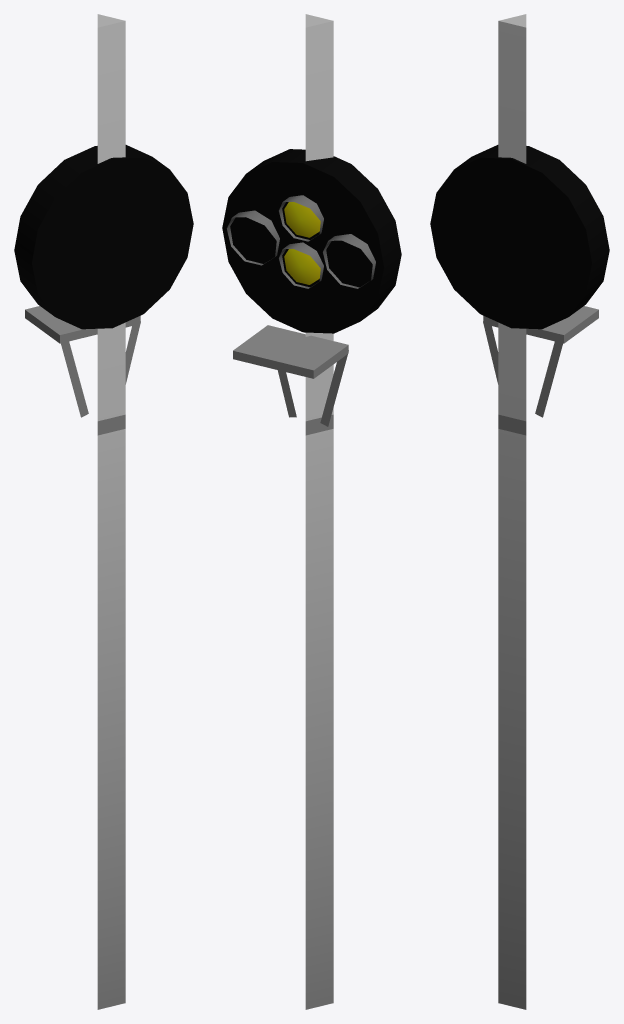
Rendered from SIGNAL_2CHUKEI.glb.
3 views of the same model, side by side, from view 1: azimuth 30°, elevation 25°; view 2: azimuth 150°, elevation 25°; view 3: azimuth 330°, elevation 25° (orthographic).
Visible parts, largest first — view 1: body1; view 2: body1; view 3: body1.
Boxes of the visible parts, <box> form: body1: <box>14,14,193,1009</box>; body1: <box>222,14,401,1009</box>; body1: <box>430,14,609,1009</box>.
Size of the model in its own units: 2 by 11.59 by 1.02.
Materials: 2 (2 with a texture image).
